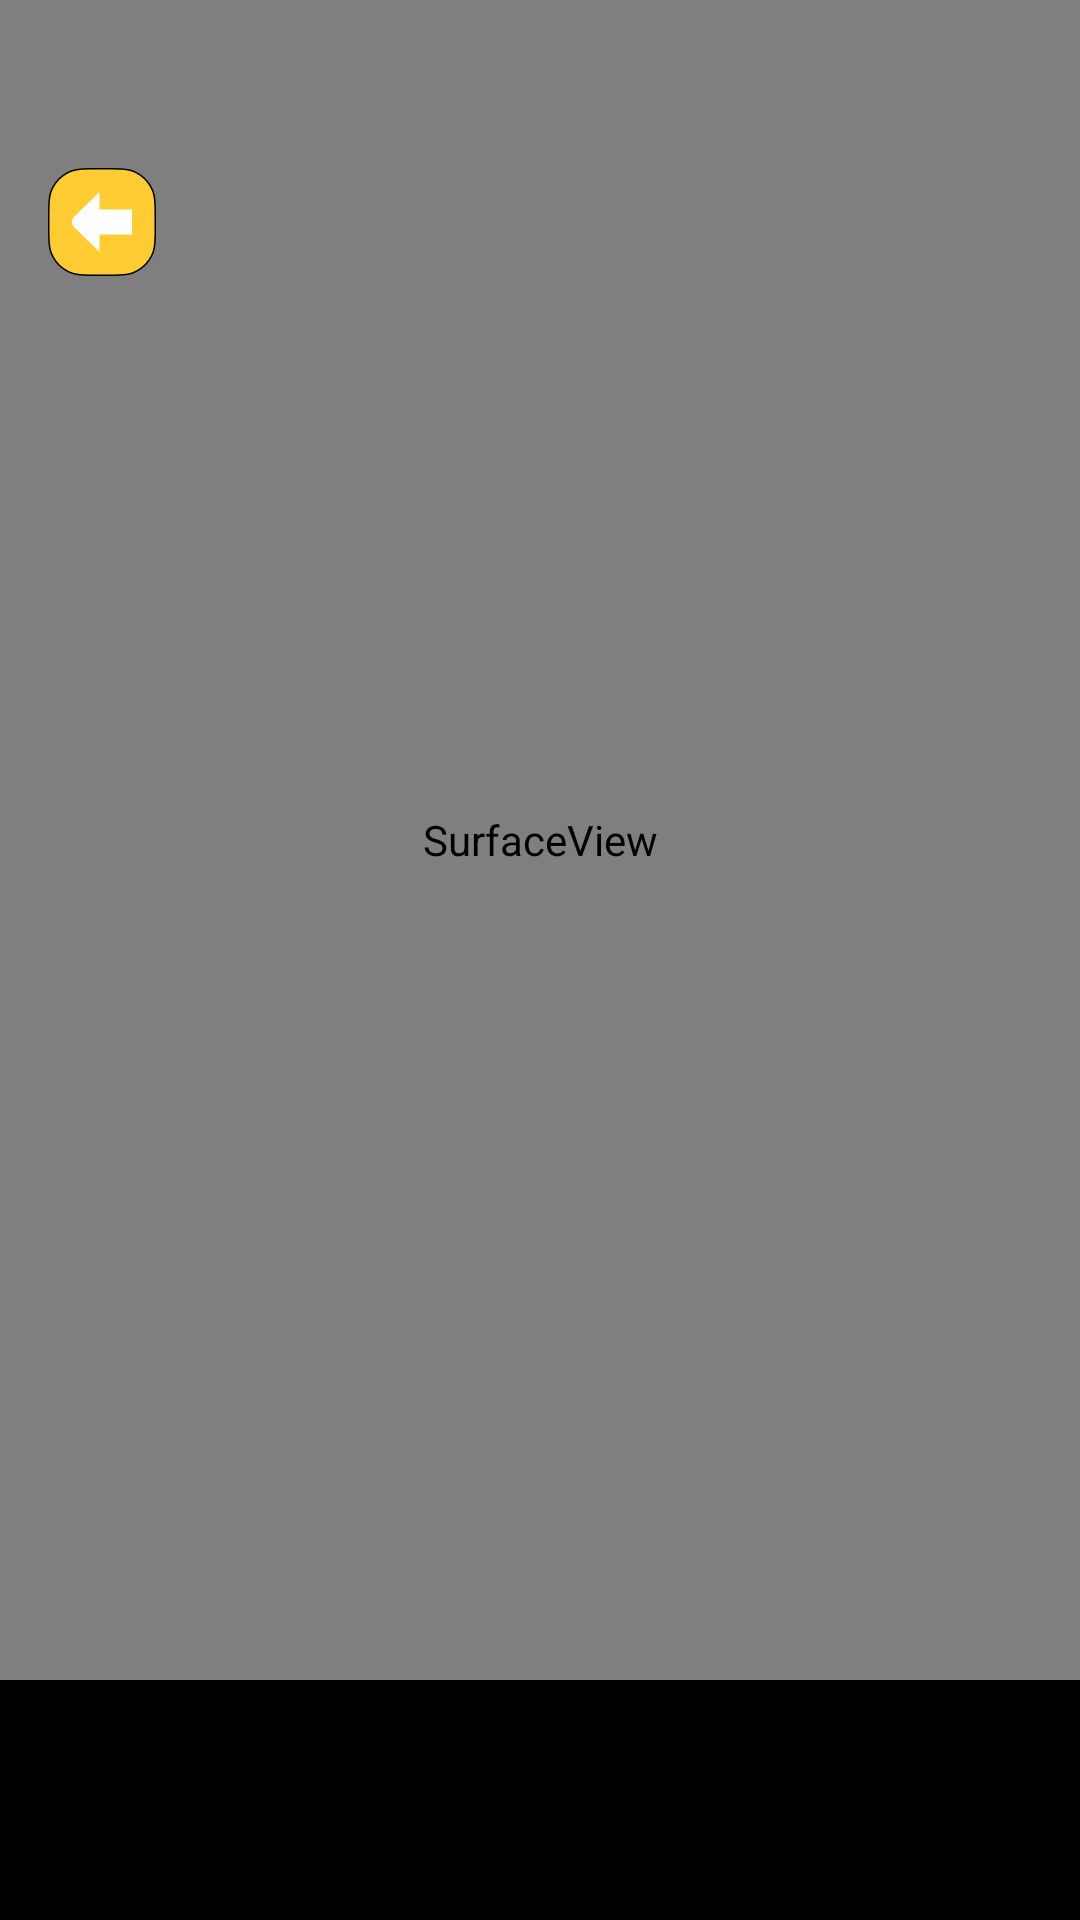

Icon bounding boxes for this 1080px×1920px phone screenshot, format (x1, y1, x2, y2):
back: (48, 168, 156, 276)
